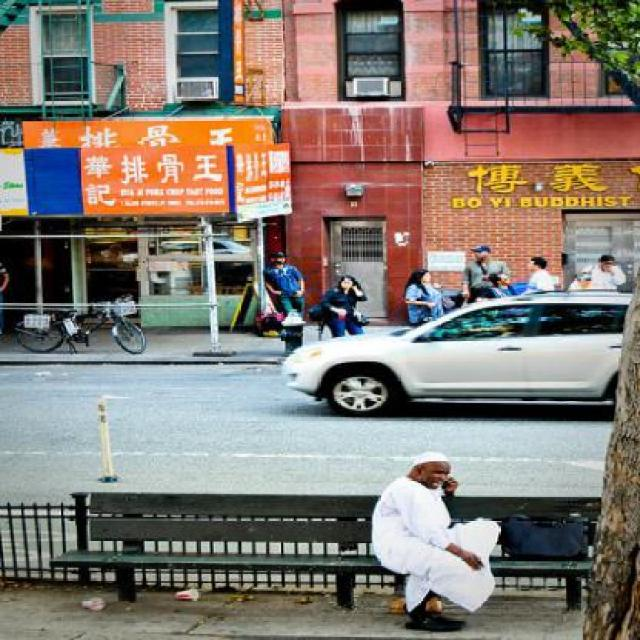Person: (368, 452, 500, 630), (306, 272, 368, 336), (457, 245, 509, 302), (262, 251, 302, 317), (402, 266, 442, 326), (568, 252, 624, 290), (516, 256, 555, 296), (474, 272, 517, 300), (566, 270, 602, 288)
